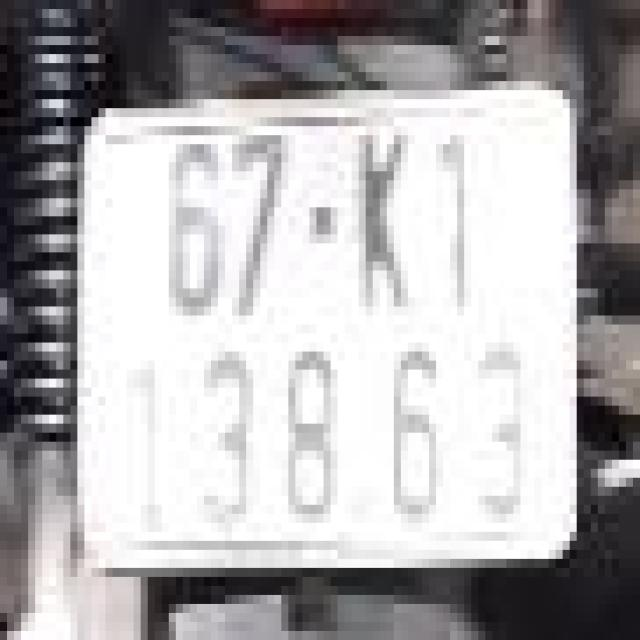1: (432, 117, 474, 316), (130, 351, 172, 550)
3: (197, 320, 260, 545), (468, 333, 531, 541)
6: (158, 131, 229, 320), (383, 342, 447, 532)
7: (232, 126, 288, 325)
8: (271, 338, 341, 536)
K: (345, 113, 415, 320)
